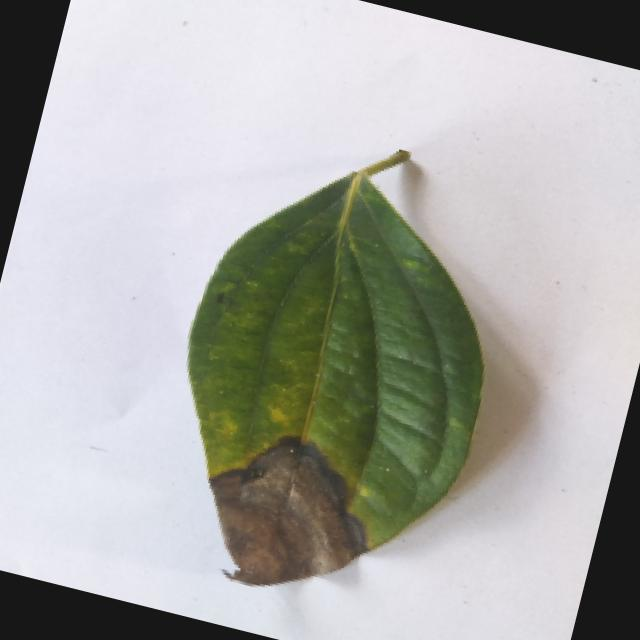footrot: (128, 109, 538, 630)
